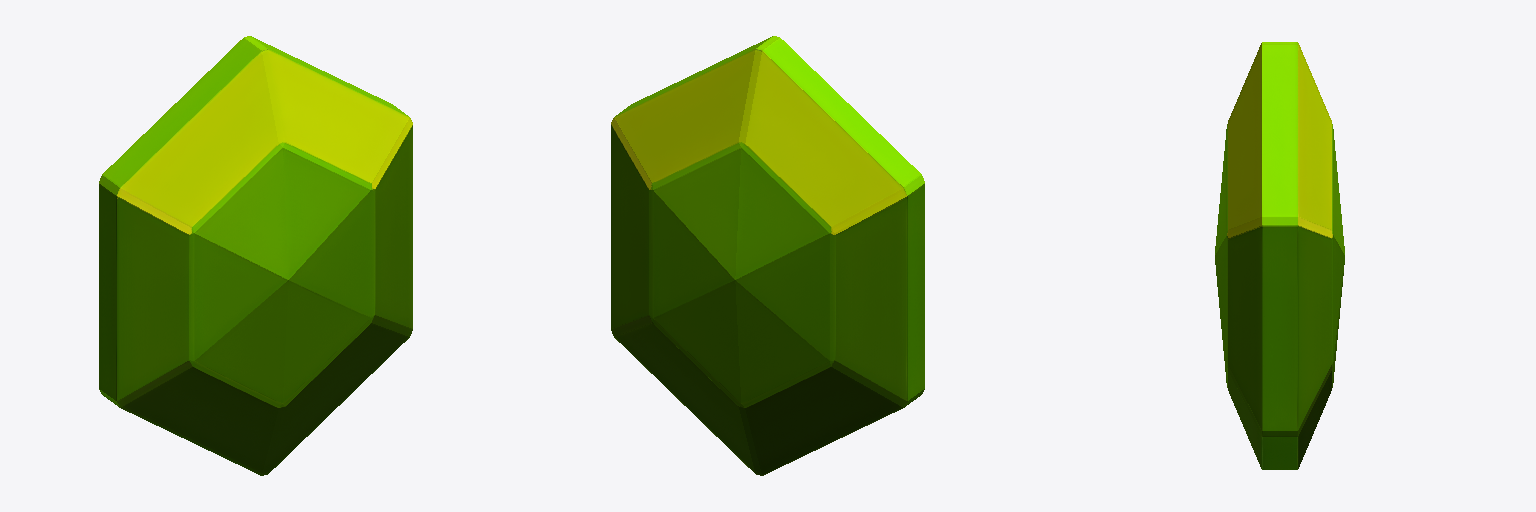
3 renders of one model, left to right at view 1: azimuth 30°, elevation 25°; view 2: azimuth 150°, elevation 25°; view 3: azimuth 270°, elevation 25°, orthographic.
Visible parts, largest first — view 1: Sphere; view 2: Sphere; view 3: Sphere.
Boxes of the visible parts, box(x1,y1,x2,y2) form: Sphere: box(99, 36, 412, 475); Sphere: box(611, 36, 924, 475); Sphere: box(1215, 42, 1344, 469).
Size of the model in its own units: 1.65 by 2.26 by 0.6287.
Materials: 1 (1 with a texture image).